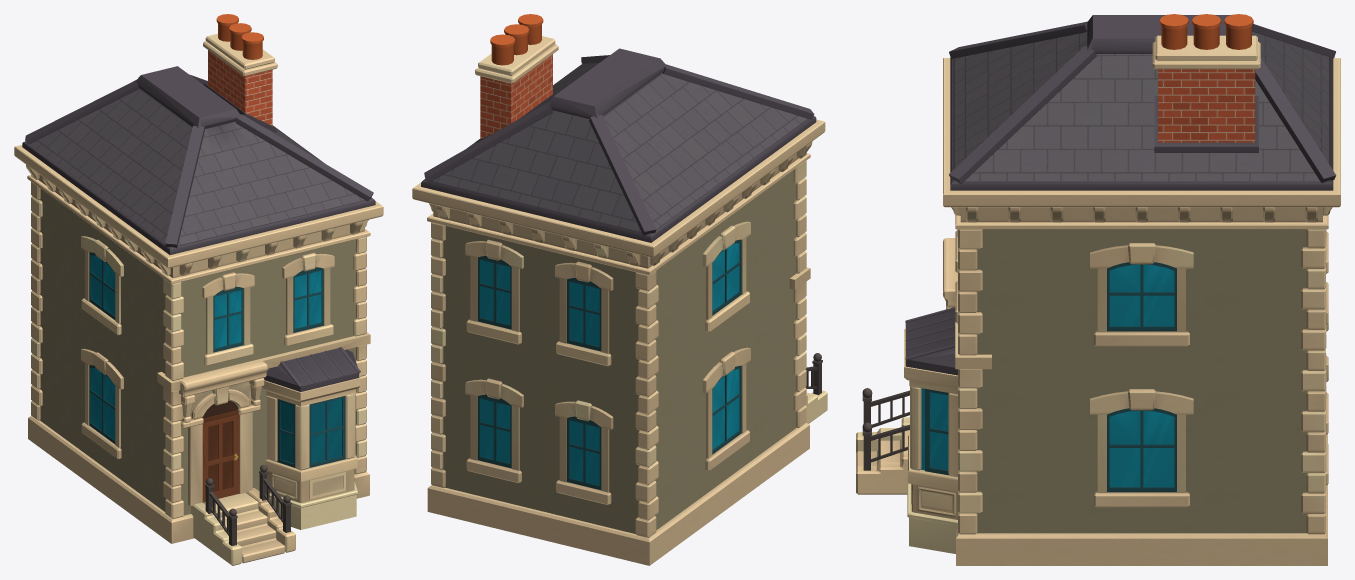
The model's file is houdini_olive_bay_house.glb.
3 views of the same model, side by side, from view 1: azimuth 30°, elevation 25°; view 2: azimuth 150°, elevation 25°; view 3: azimuth 270°, elevation 25° (orthographic). The views are drawn at different scales.
Visible parts, largest first — view 1: LOD0; view 2: LOD0; view 3: LOD0.
Boxes of the visible parts, bbox=[...] form: LOD0: bbox=[14, 14, 383, 565]; LOD0: bbox=[412, 14, 827, 565]; LOD0: bbox=[856, 14, 1340, 565].
Size of what is drawn, in the model's own units: 5.99 by 10.74 by 8.99.
Materials: 6 (6 with a texture image).
